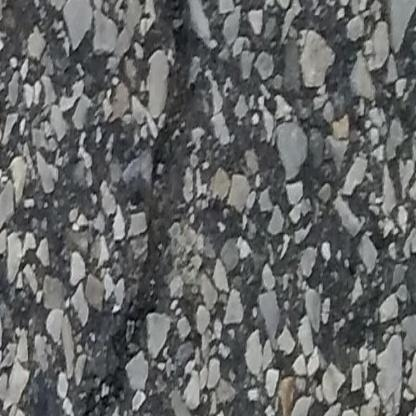Cracks: (71, 0, 192, 416)
